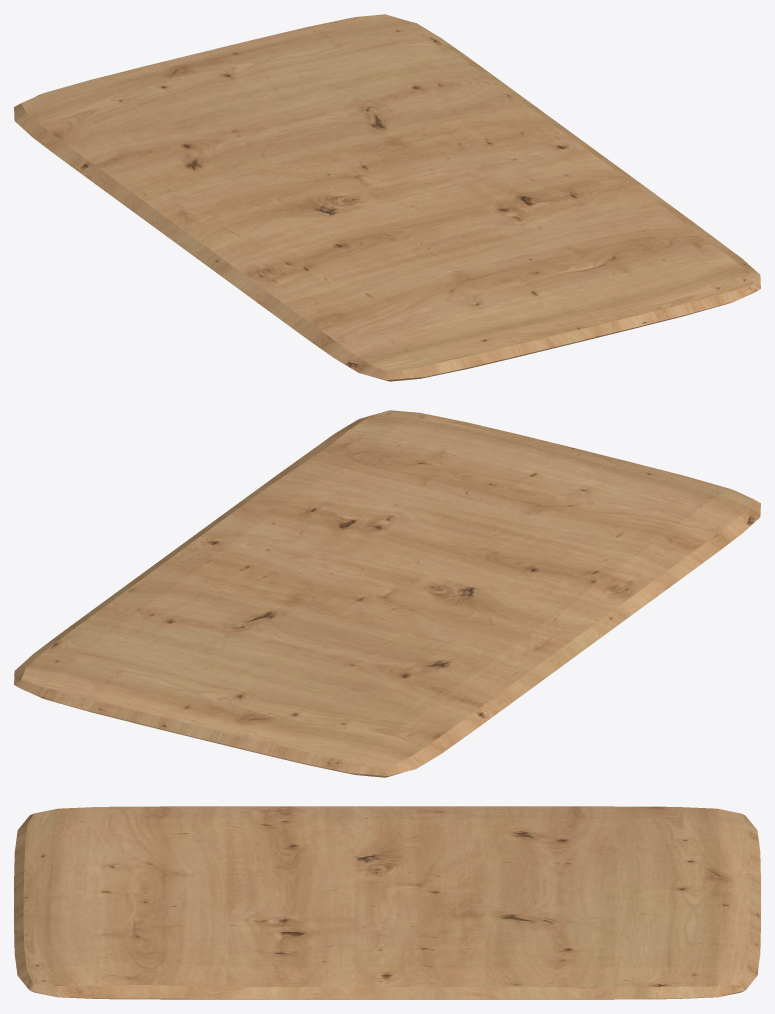
The model's file is Floor.fbx.
The picture shows the model from 3 angles, top to bottom: view 1: azimuth 30°, elevation 25°; view 2: azimuth 150°, elevation 25°; view 3: azimuth 270°, elevation 25°; orthographic projection. The views are drawn at different scales.
Parts seen in each view (by area): view 1: Cube; view 2: Cube; view 3: Cube.
Part boxes in pixels (x1,y1,x2,y2): Cube: (14, 14, 760, 381); Cube: (14, 410, 760, 777); Cube: (14, 806, 760, 999).
Bounding box in the file's own units: 3548 × 200 × 5835.
